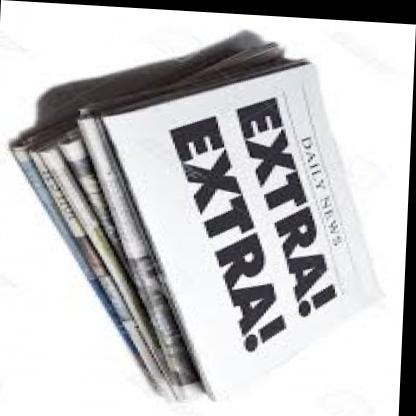Paper: (0, 10, 376, 416)
